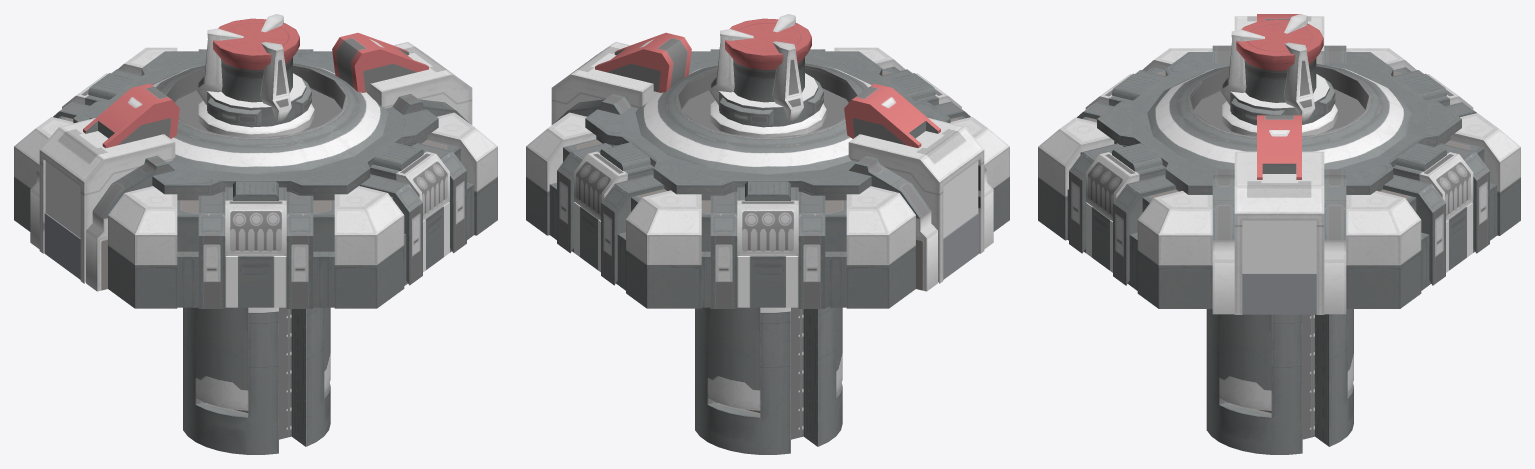
File: turret-disturb.glb
The picture shows the model from 3 angles, left to right: view 1: azimuth 30°, elevation 25°; view 2: azimuth 150°, elevation 25°; view 3: azimuth 270°, elevation 25°; orthographic projection.
Visible parts, largest first — view 1: turret-disturb, turret-disturb-1, turret-disturb-4 (×2); view 2: turret-disturb, turret-disturb-1, turret-disturb-4 (×2); view 3: turret-disturb, turret-disturb-1, turret-disturb-4 (×2).
Part boxes in pixels (<box>): turret-disturb: <box>14,32,497,308</box>; turret-disturb-1: <box>183,14,330,454</box>; turret-disturb-4 (×2): <box>195,307,330,410</box>; turret-disturb: <box>526,32,1009,308</box>; turret-disturb-1: <box>695,14,842,454</box>; turret-disturb-4 (×2): <box>707,307,842,410</box>; turret-disturb: <box>1038,14,1520,314</box>; turret-disturb-1: <box>1206,14,1353,454</box>; turret-disturb-4 (×2): <box>1219,309,1353,410</box>.
Bounding box in the file's own units: 6 × 5.79 × 6.48.
2 materials, 1 textured.
